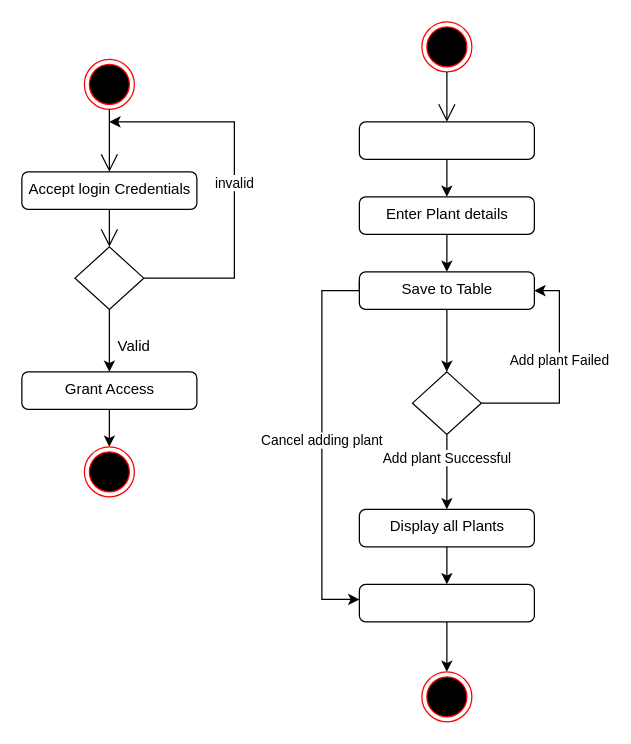
Image size: 631x744. Some labels were removed from this diagram. Each missing label, with the centre of its shape:
"Login" goes at point (446, 140).
"Logout" goes at point (446, 602).
